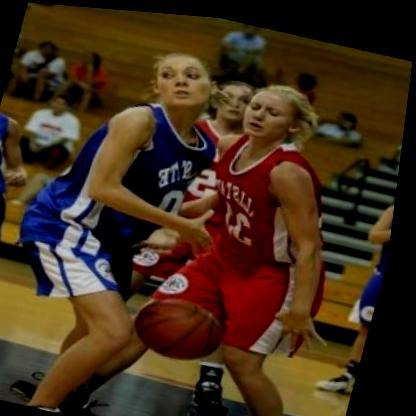basketball: (128, 279, 243, 367)
